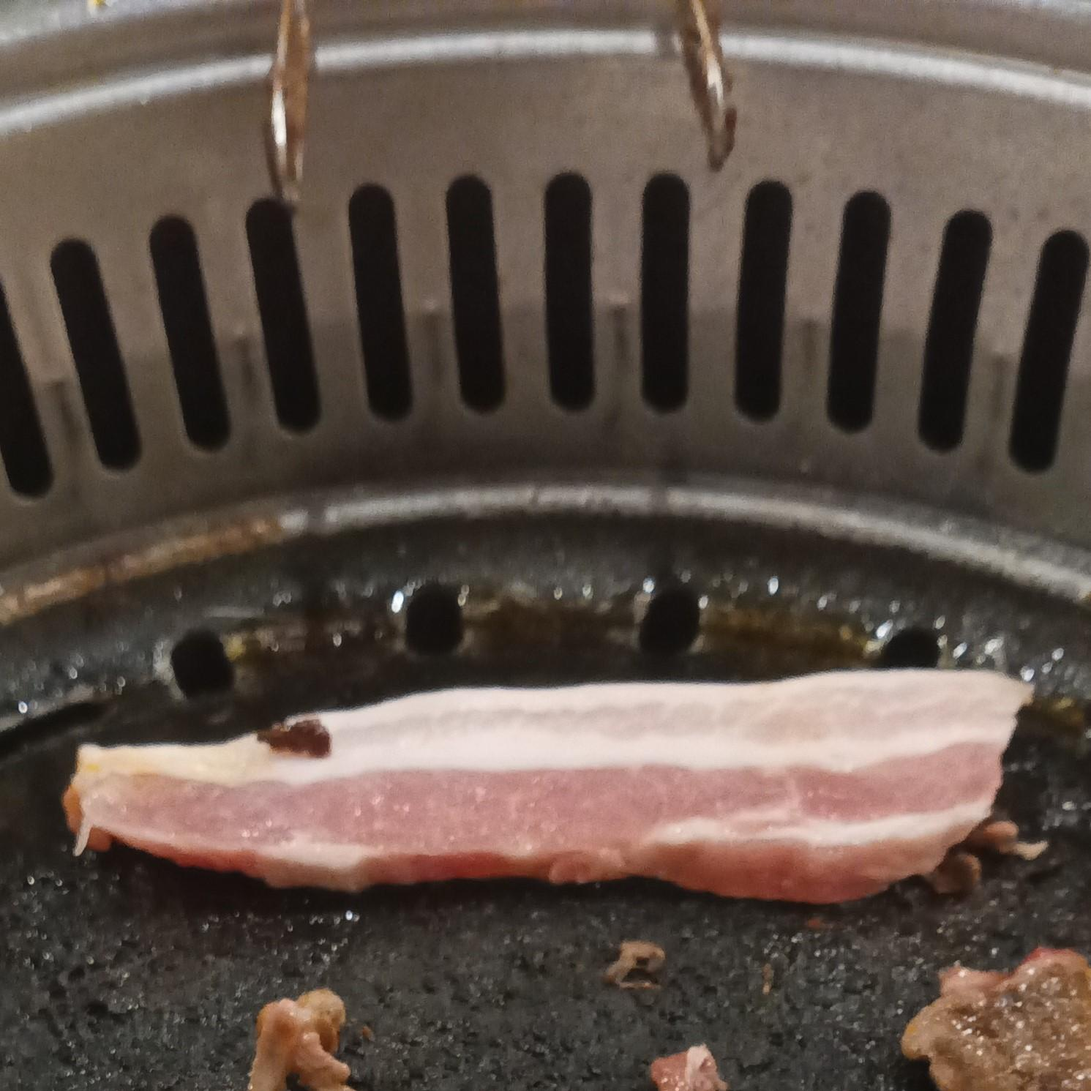Undercooked: (64, 670, 1045, 904)
